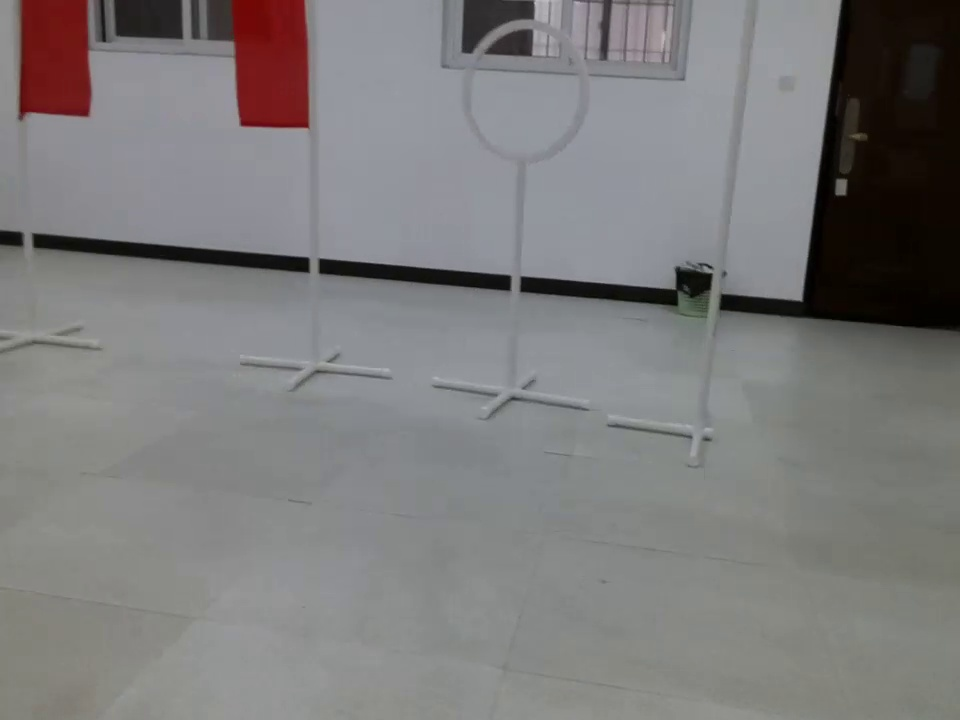gan: (690, 1, 761, 431)
qi: (226, 1, 318, 138), (6, 2, 93, 118)
quan: (453, 17, 599, 162)
